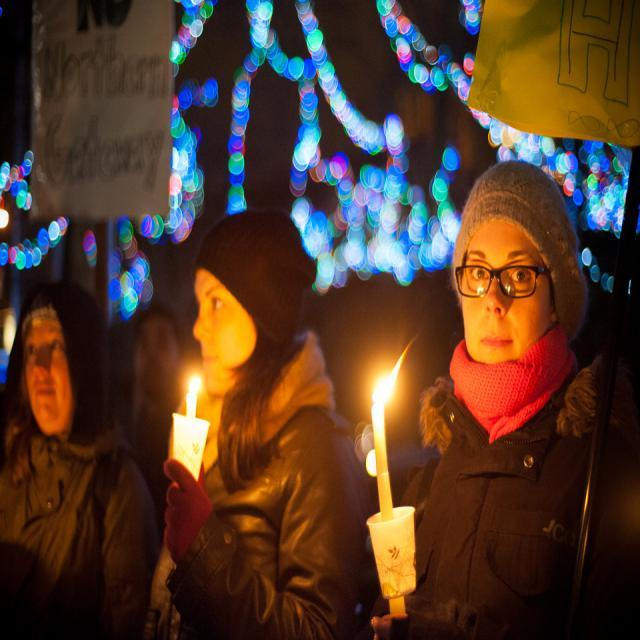Fire: (367, 369, 398, 401), (184, 369, 202, 394)
